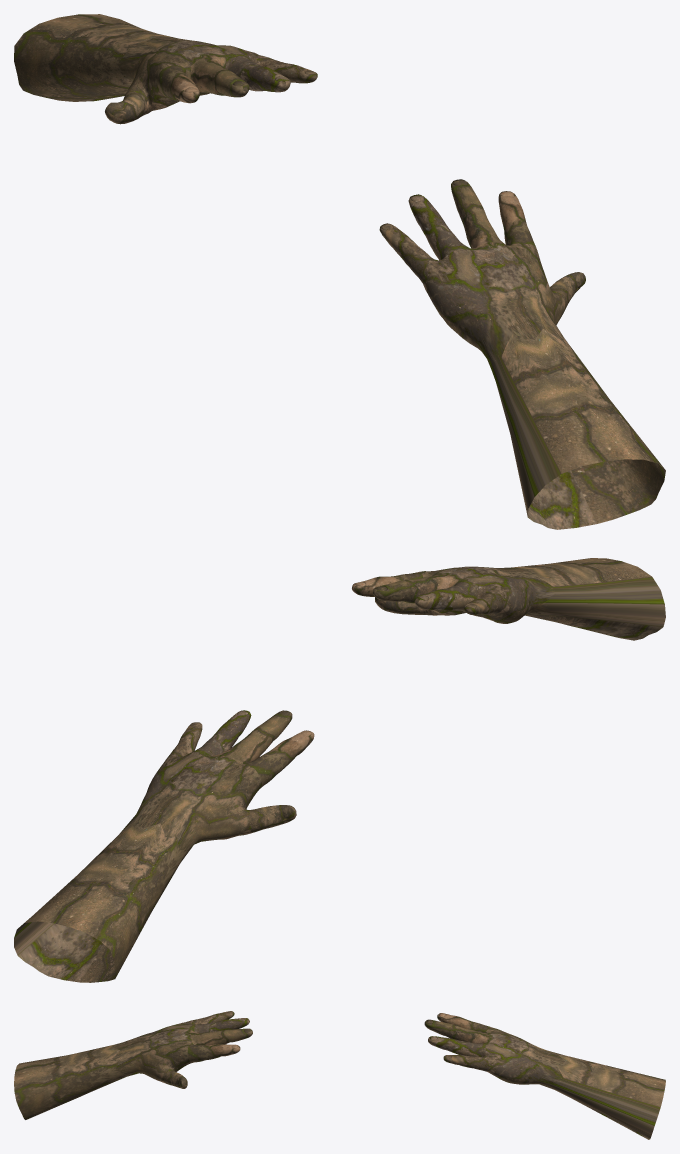
The model's file is hands_000018.obj.
3 renders of one model, top to bottom at view 1: azimuth 30°, elevation 25°; view 2: azimuth 150°, elevation 25°; view 3: azimuth 270°, elevation 25°, orthographic. The views are drawn at different scales.
Parts seen in each view (by area): view 1: hand.001_Mesh.001, hand_Mesh; view 2: hand_Mesh, hand.001_Mesh.001; view 3: hand_Mesh, hand.001_Mesh.001.
Part boxes in pixels (left/top/right/bottom): hand.001_Mesh.001: left=379, top=179, right=665, bottom=529; hand_Mesh: left=14, top=14, right=317, bottom=124; hand_Mesh: left=14, top=710, right=314, bottom=982; hand.001_Mesh.001: left=352, top=558, right=665, bottom=640; hand_Mesh: left=424, top=1013, right=665, bottom=1139; hand.001_Mesh.001: left=14, top=1011, right=252, bottom=1119.
Bounding box in the file's own units: 1.58 × 1.45 × 8.24.
Materials: 1 (1 with a texture image).
